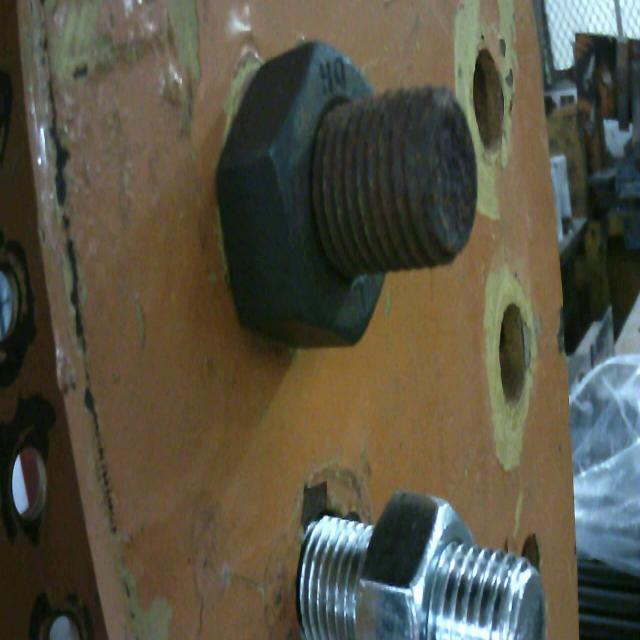Loose bolt: (287, 493, 549, 640)
Missing bolt: (472, 46, 511, 152), (495, 301, 532, 406), (10, 438, 52, 521), (1, 262, 21, 345), (44, 607, 87, 640), (520, 528, 541, 570)
Regular bolt: (296, 501, 548, 618)
Rusty bolt: (213, 40, 481, 356)
